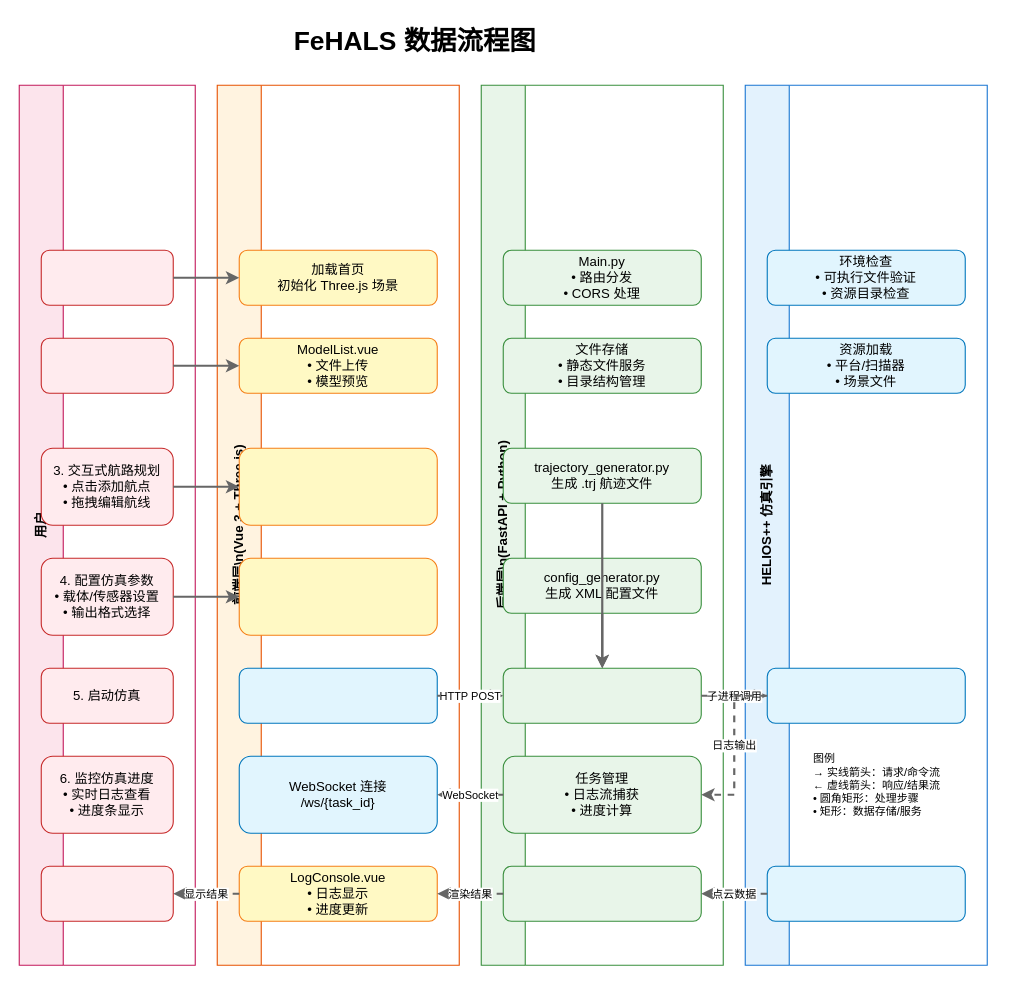
Image size: 1029x985. Some labels were removed from this diagram. The centre of each missing label's shape, as x and y in pixels:
"1. 打开浏览器 访问系统" belongs at (106,277).
"2. 上传三维模型 (OBJ/GLTF/STL)" belongs at (106,365).
"7. 查看结果 • 点云渲染 • 参数调节" belongs at (106,893).
"ControlPanel.vue • 参数表单 • 表单验证" belongs at (337,596).
"helios_service.py • 参数校验 • 子进程创建" belongs at (601,695).
"pointcloud_parser.py 解析输出点云" belongs at (601,893).
"Scene3D.vue • 模型加载 • 航点交互 • OrbitControls" belongs at (337,486).
"光线追踪仿真 • 航线扫描 • 激光脉冲模拟" belongs at (865,695).
"发送请求 POST /api/simulate" belongs at (337,695).
"结果输出 • XYZ 点云 • 日志文件" belongs at (865,893).
